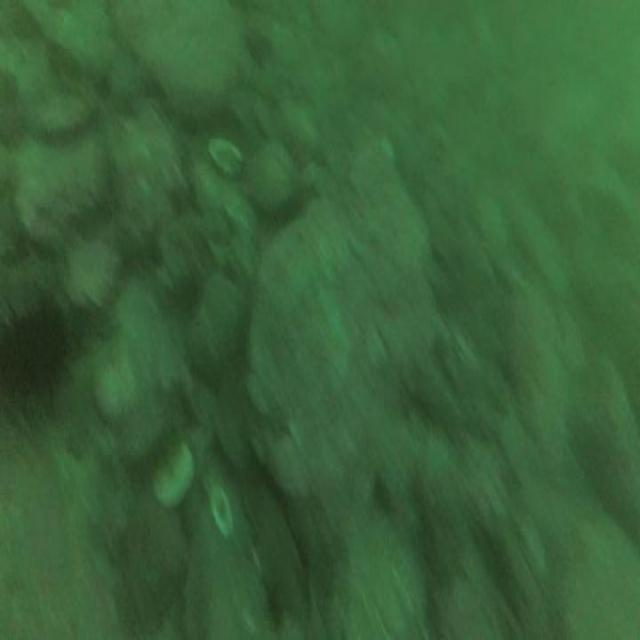echinus: (4, 291, 71, 423)
